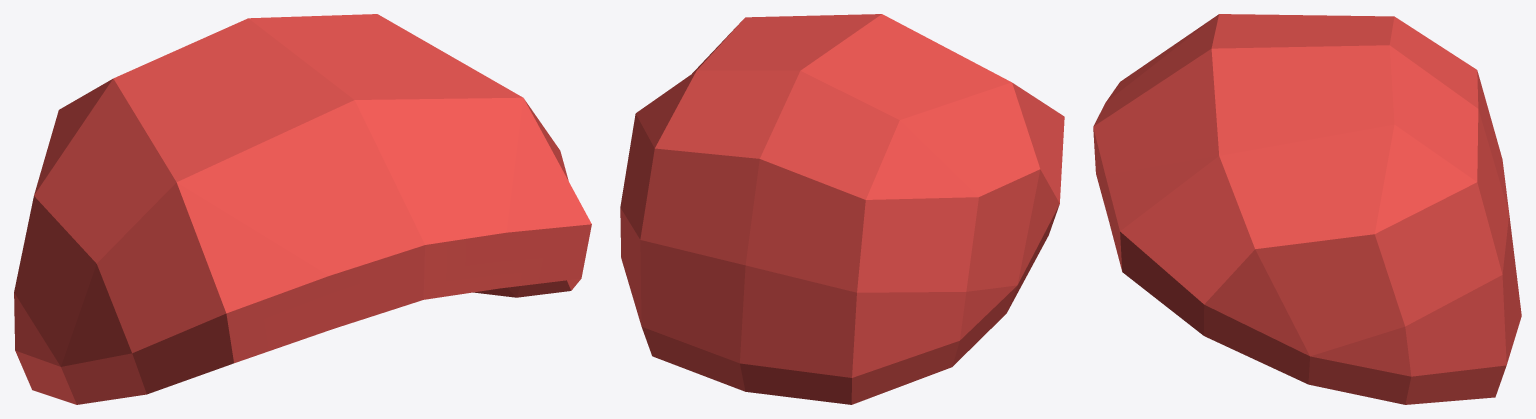
File: Skier_1_Cap.fbx
3 views of the same model, side by side, from view 1: azimuth 30°, elevation 25°; view 2: azimuth 150°, elevation 25°; view 3: azimuth 270°, elevation 25° (orthographic). The views are drawn at different scales.
Visible parts, largest first — view 1: Skier_1_Cap; view 2: Skier_1_Cap; view 3: Skier_1_Cap.
Boxes of the visible parts, left/top/right/bottom form: Skier_1_Cap: left=14, top=14, right=591, bottom=404; Skier_1_Cap: left=620, top=14, right=1064, bottom=404; Skier_1_Cap: left=1093, top=14, right=1521, bottom=404.
Bounding box in the file's own units: 22.76 × 16.91 × 21.45.
